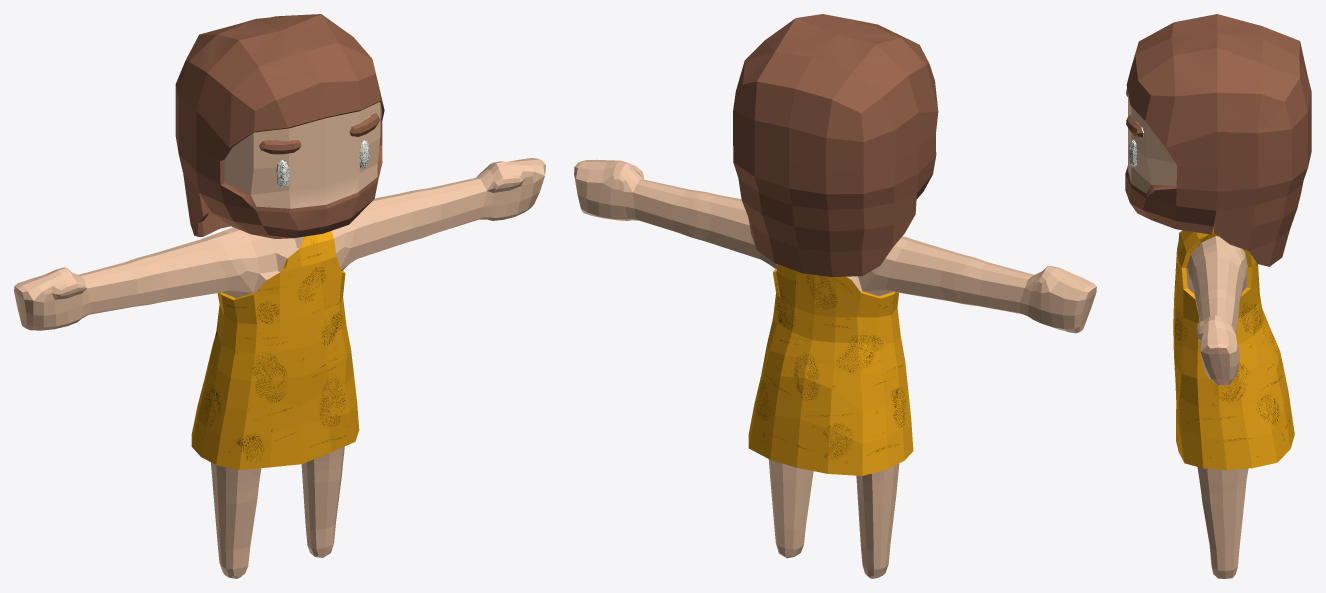
Rendered from Caveman sin esqueleto.fbx.
The picture shows the model from 3 angles, left to right: view 1: azimuth 30°, elevation 25°; view 2: azimuth 150°, elevation 25°; view 3: azimuth 270°, elevation 25°; orthographic projection. The views are drawn at different scales.
Visible parts, largest first — view 1: Body; view 2: Body; view 3: Body.
Part boxes in pixels (left/top/right/bottom): Body: left=14, top=14, right=545, bottom=578; Body: left=574, top=14, right=1096, bottom=578; Body: left=1125, top=14, right=1311, bottom=578.
Size of the model in its own units: 324 by 322 by 103.
